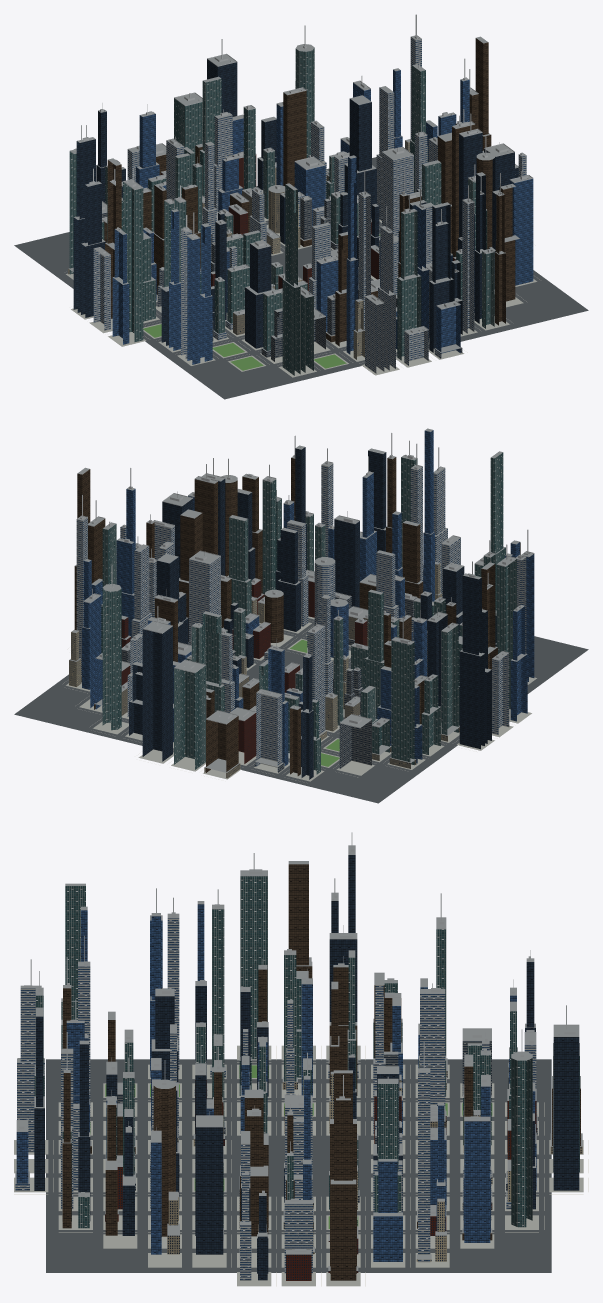
File: city.glb
3 renders of one model, top to bottom at view 1: azimuth 30°, elevation 25°; view 2: azimuth 150°, elevation 25°; view 3: azimuth 270°, elevation 25°, orthographic. The views are drawn at different scales.
Parts seen in each view (by area): view 1: city_glass_green, city_glass_white, city_glass_sky, city_glass_slate, city_glass_bronze, city_asphalt, city_roof, city_plant, city_pavement, city_concrete, city_brick, city_park (+2 smaller); view 2: city_glass_green, city_glass_slate, city_glass_white, city_glass_sky, city_glass_bronze, city_roof, city_asphalt, city_plant, city_pavement, city_brick, city_concrete, city_limestone (+1 smaller); view 3: city_asphalt, city_glass_green, city_glass_slate, city_glass_bronze, city_glass_white, city_glass_sky, city_pavement, city_roof, city_plant, city_brick, city_marking, city_limestone (+2 smaller).
Boxes of the visible parts, box(x1,y1,x2,y2) form: city_glass_green: box(69, 48, 494, 375); city_glass_white: box(93, 37, 526, 373); city_glass_sky: box(112, 69, 533, 364); city_glass_slate: box(73, 59, 518, 352); city_glass_bronze: box(102, 38, 515, 346); city_asphalt: box(14, 157, 588, 399); city_roof: box(68, 14, 532, 352); city_plant: box(70, 14, 533, 334); city_pavement: box(66, 217, 537, 377); city_concrete: box(102, 198, 397, 361); city_brick: box(161, 154, 455, 290); city_park: box(143, 234, 380, 370); city_glass_green: box(101, 452, 516, 774); city_glass_slate: box(129, 447, 496, 779); city_glass_white: box(76, 463, 526, 771); city_glass_sky: box(82, 430, 534, 766); city_glass_bronze: box(74, 457, 497, 777); city_roof: box(69, 428, 533, 772); city_asphalt: box(14, 618, 588, 803); city_plant: box(76, 433, 534, 727); city_pavement: box(65, 616, 536, 781); city_brick: box(121, 580, 367, 763); city_concrete: box(121, 597, 416, 772); city_limestone: box(69, 563, 442, 740); city_asphalt: box(46, 1059, 551, 1272); city_glass_green: box(34, 876, 579, 1228); city_glass_slate: box(34, 855, 579, 1280); city_glass_bronze: box(62, 864, 580, 1280); city_glass_white: box(15, 918, 536, 1280); city_glass_sky: box(16, 904, 536, 1261); city_pavement: box(14, 1045, 583, 1286); city_roof: box(15, 845, 582, 1270); city_plant: box(16, 833, 580, 1254); city_brick: box(105, 1080, 536, 1280); city_marking: box(14, 1046, 588, 1286); city_limestone: box(178, 1074, 511, 1261).
Bounding box in the file's own units: 773 × 349 × 773.
Materials: 15 (9 with a texture image).
